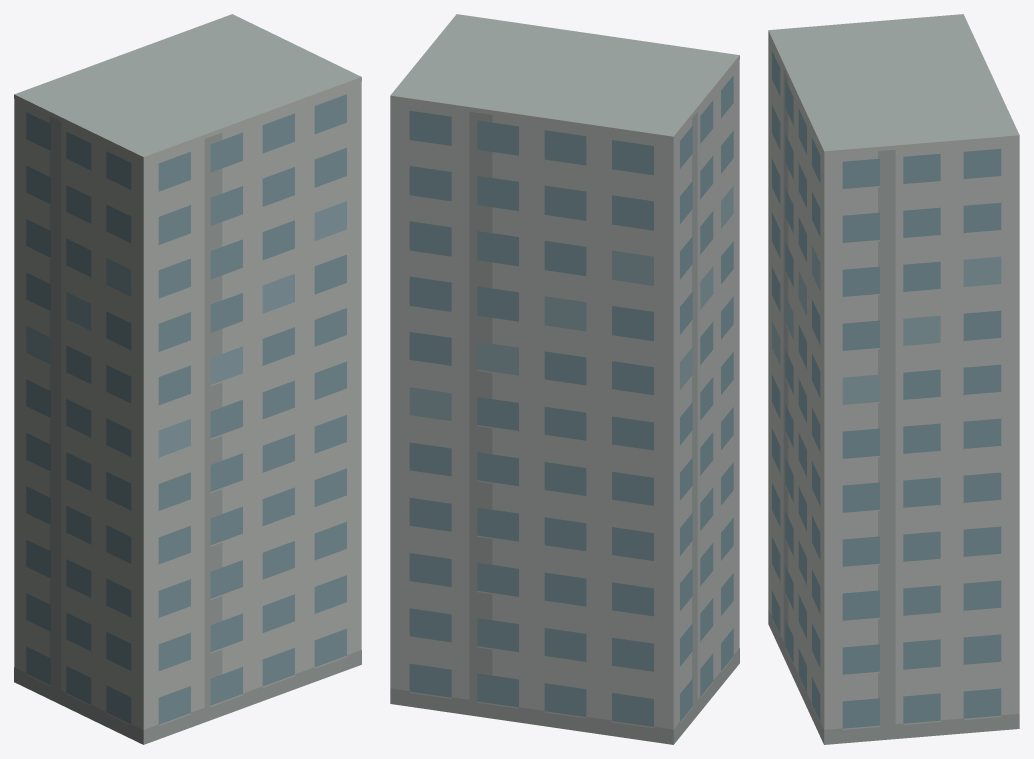
File: residential-1d94f857-5dc2-4417-b039-650747817da0.glb
3 renders of one model, left to right at view 1: azimuth 30°, elevation 25°; view 2: azimuth 150°, elevation 25°; view 3: azimuth 270°, elevation 25°, orthographic. The views are drawn at different scales.
Visible parts, largest first — view 1: residential-1d94f857-5dc2-4417-b039-650747817da0.tmp; view 2: residential-1d94f857-5dc2-4417-b039-650747817da0.tmp; view 3: residential-1d94f857-5dc2-4417-b039-650747817da0.tmp.
Part boxes in pixels (x1=…): residential-1d94f857-5dc2-4417-b039-650747817da0.tmp: x1=14, y1=14, x2=361, y2=744; residential-1d94f857-5dc2-4417-b039-650747817da0.tmp: x1=390, y1=14, x2=739, y2=744; residential-1d94f857-5dc2-4417-b039-650747817da0.tmp: x1=768, y1=14, x2=1019, y2=744.
Bounding box in the file's own units: 16.38 × 33 × 12.68.
